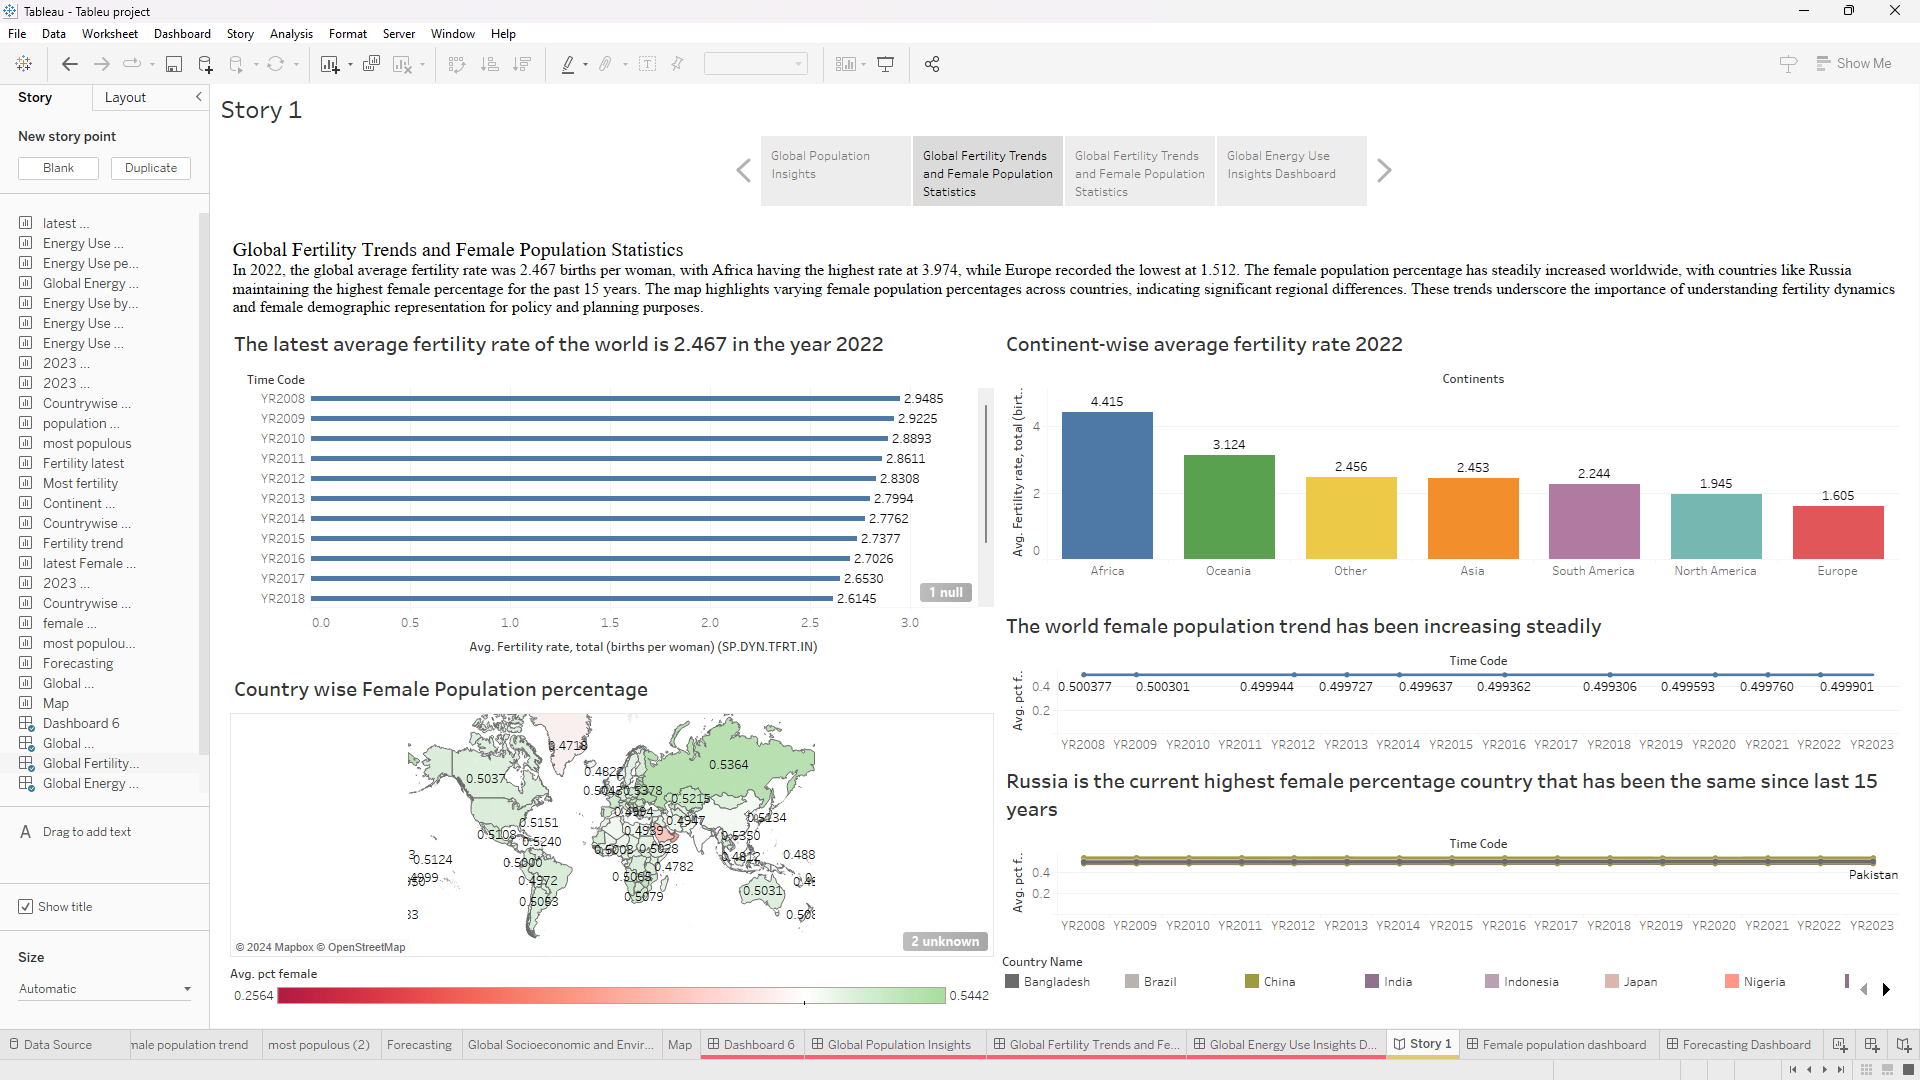

The page's visual inventory and layout, read from the dashboard file:
{"tool":"tableau","page":{"name":"Global Fertility Trends and Female Population Statistics","canvas":[1000,1000],"units":"permille","ordinal":4},"visuals":[{"type":"title","box":[4.7,8.5,990.6,92.2]},{"type":"worksheet","title":"Fertility latest","mark":"Bar","rows":["Time Code"],"cols":["Fertility rate, total (births per woman) (SP.DYN.TFRT.IN)"],"box":[4.7,100.6,456.3,445.4]},{"type":"worksheet","title":"Continent fertility rate","mark":"Automatic","rows":["Fertility rate, total (births per woman) (SP.DYN.TFRT.IN)"],"cols":["Continents"],"box":[461,100.6,534.3,363]},{"type":"worksheet","title":"female population trend","mark":"Line","rows":["Calculation_1451566521846403072"],"cols":["Time Code"],"box":[461,463.6,534.3,200.4]},{"type":"worksheet","title":"Countrywise female population","mark":"Automatic","box":[4.7,546,456.3,379.7]},{"type":"worksheet","title":"most populous (2)","mark":"Line","rows":["Calculation_1451566521846403072"],"cols":["Time Code"],"box":[461,664,534.3,246.7]},{"type":"legend","title":"most populous (2)","param":"[federated.0u96f6y1uy6if2102a24o0p1i3m1].[none:Country Name:nk]","box":[461,910.7,534.3,80.8]},{"type":"legend","title":"Countrywise female population","param":"[federated.0u96f6y1uy6if2102a24o0p1i3m1].[avg:Calculation_1451566521846403072:qk","box":[4.7,925.8,456.3,65.8]}]}

Visuals, with their boxes on the dashboard's canvas, which has no fixed pixel size, in thousandths of its width and height (x1, y1, x2, y2). These are canvas units, not pixel positions in the 1920x1080 screenshot, which may show the page scaled, cropped or inside an application window:
title: (5, 8, 995, 101)
"Fertility latest" worksheet (Bar marks): (5, 101, 461, 546)
"Continent fertility rate" worksheet: (461, 101, 995, 464)
"female population trend" worksheet (Line marks): (461, 464, 995, 664)
"Countrywise female population" worksheet: (5, 546, 461, 926)
"most populous (2)" worksheet (Line marks): (461, 664, 995, 911)
"most populous (2)" legend: (461, 911, 995, 992)
"Countrywise female population" legend: (5, 926, 461, 992)
